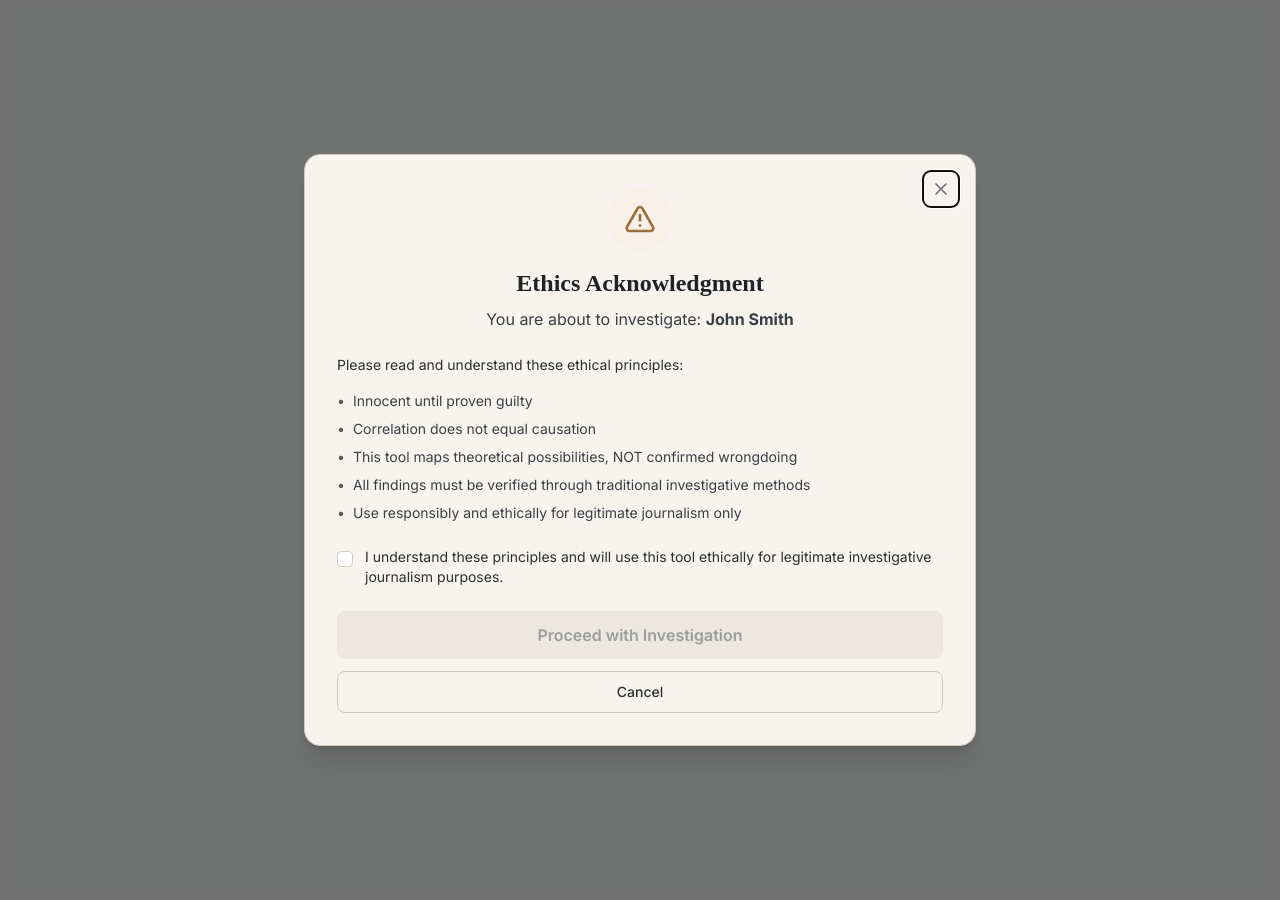
Test case: EthicsModal › Checkbox Enables Proceed Button › should disable proceed button when checkbox is unchecked after being checked
The image size is (1280, 900).
Click the checkbox.
click(345, 559)  # box [337, 551, 353, 567]
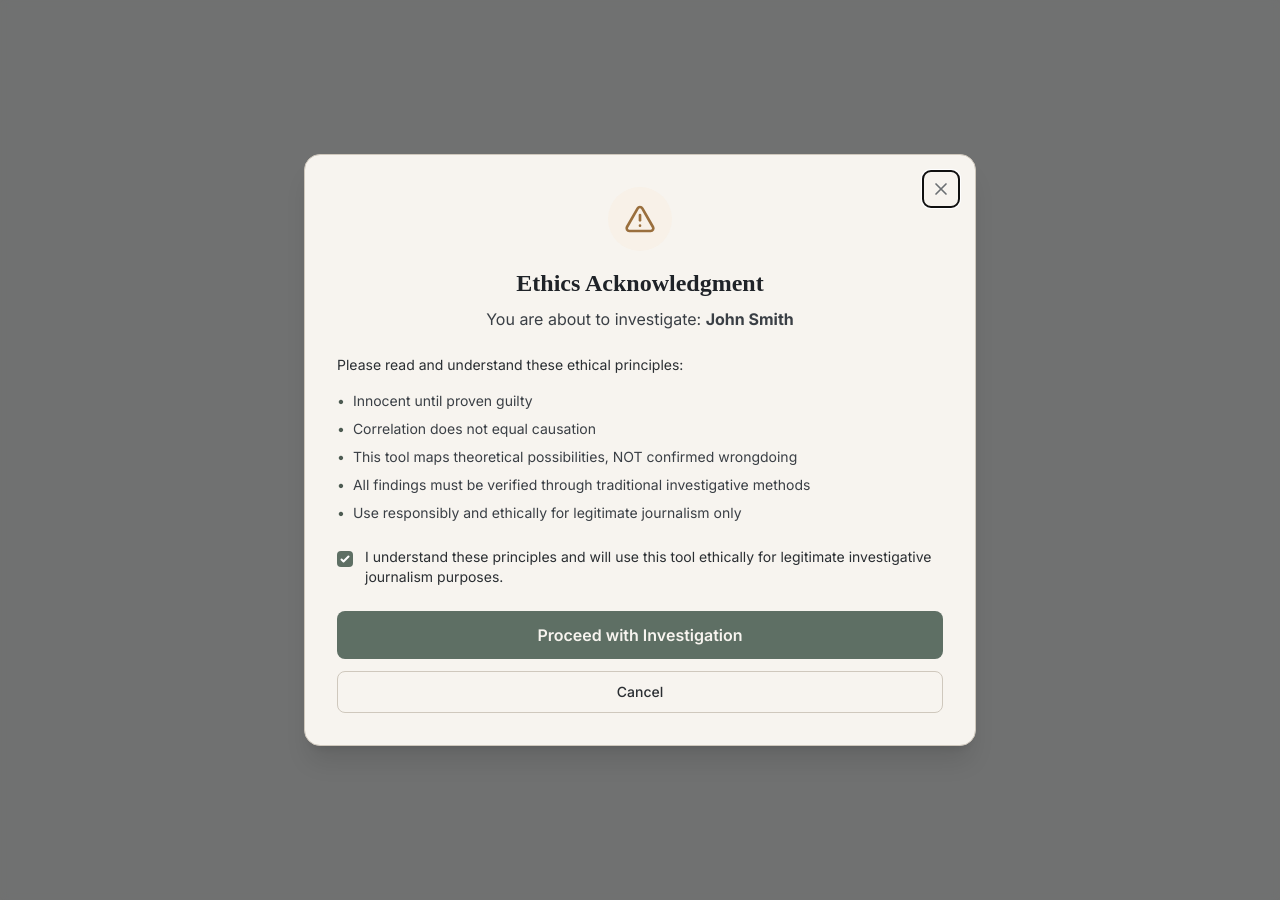
Result: the button "Proceed with Investigation" is enabled at [337, 611, 943, 659]
Click the checkbox.
click(345, 559)  # box [337, 551, 353, 567]
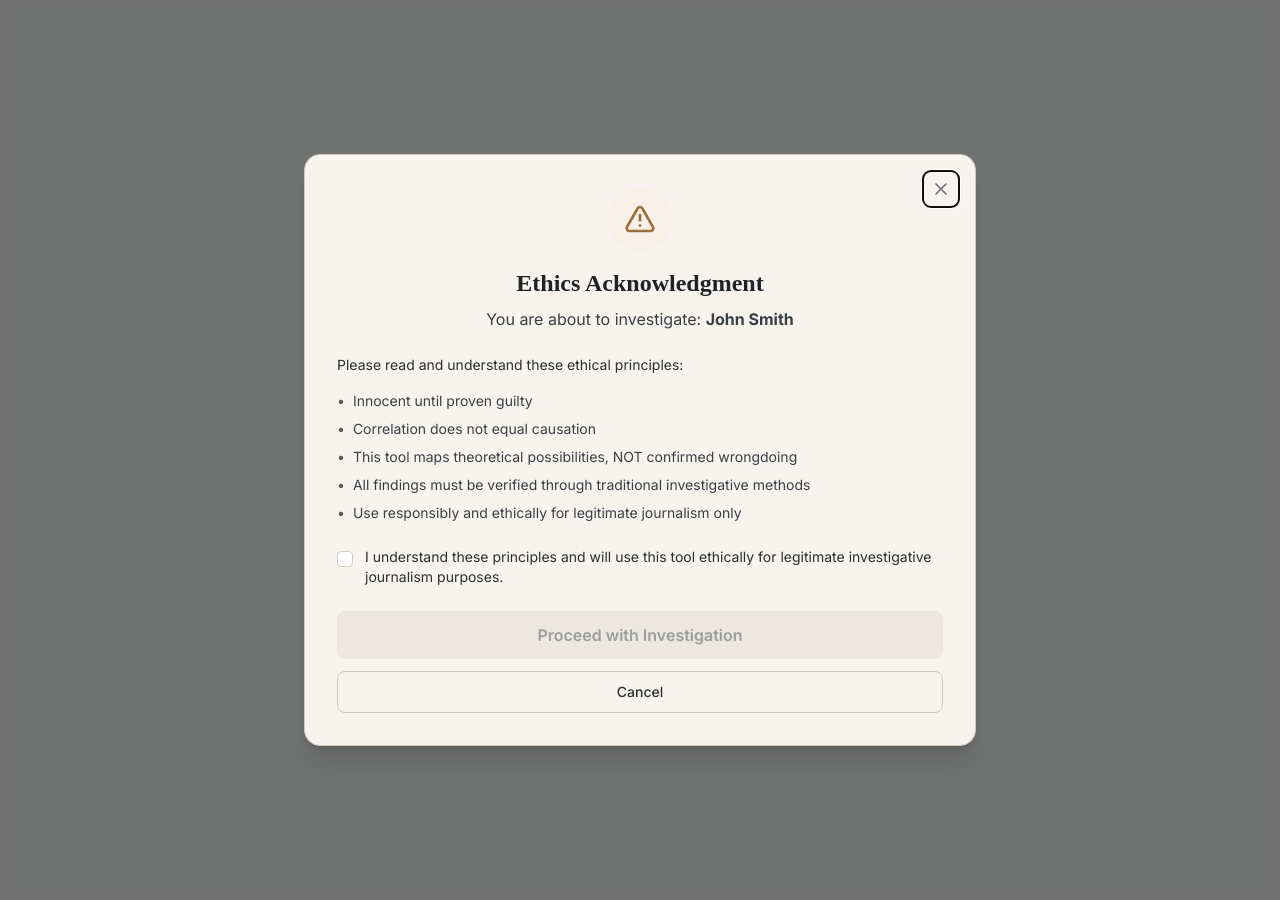
Result: the button "Proceed with Investigation" is disabled at [337, 611, 943, 659]
